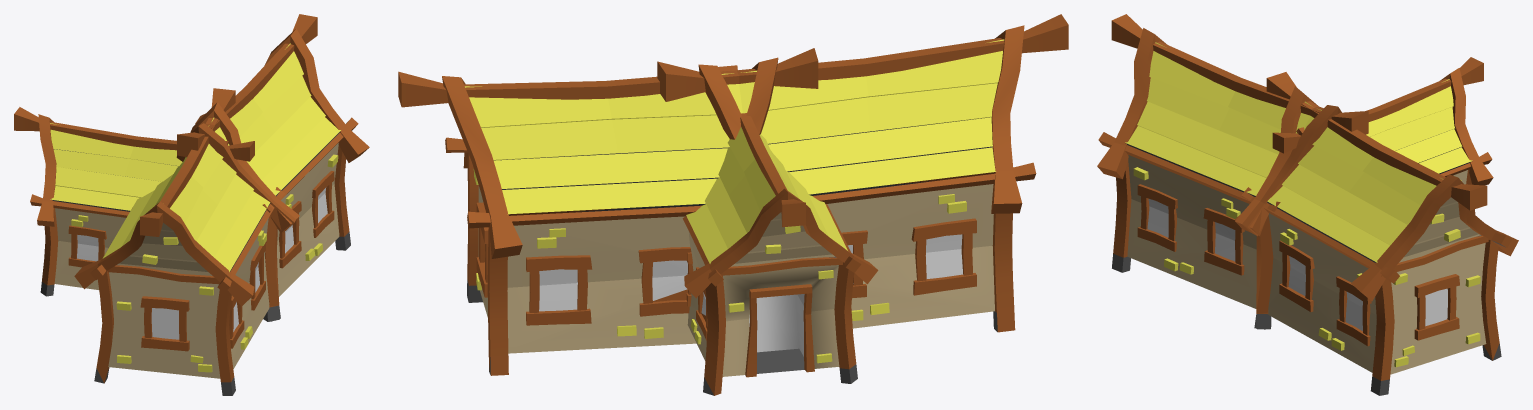
File: Maison2.fbx
3 renders of one model, left to right at view 1: azimuth 30°, elevation 25°; view 2: azimuth 150°, elevation 25°; view 3: azimuth 270°, elevation 25°, orthographic. The views are drawn at different scales.
Visible parts, largest first — view 1: defaultMaterial.018, defaultMaterial.021; view 2: defaultMaterial.018, defaultMaterial.021; view 3: defaultMaterial.018, defaultMaterial.021.
Part boxes in pixels (x1,y1,x2,y2): defaultMaterial.018: [74, 14, 369, 395]; defaultMaterial.021: [14, 107, 254, 296]; defaultMaterial.018: [398, 14, 1068, 375]; defaultMaterial.021: [682, 65, 878, 395]; defaultMaterial.018: [1097, 14, 1518, 395]; defaultMaterial.021: [1272, 57, 1493, 214].
Size of the model in its own units: 2990 by 1579 by 2854.
